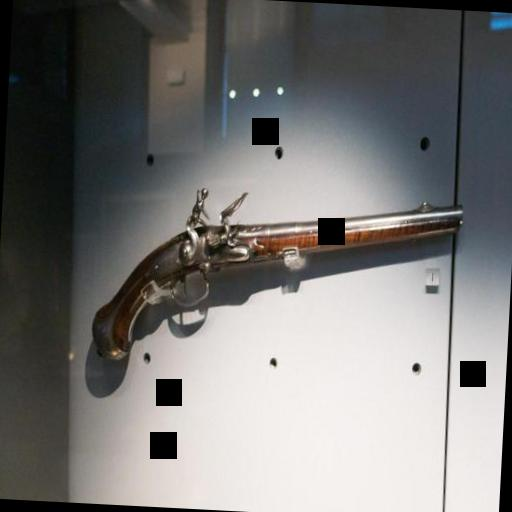Handgun: (84, 160, 466, 390)
